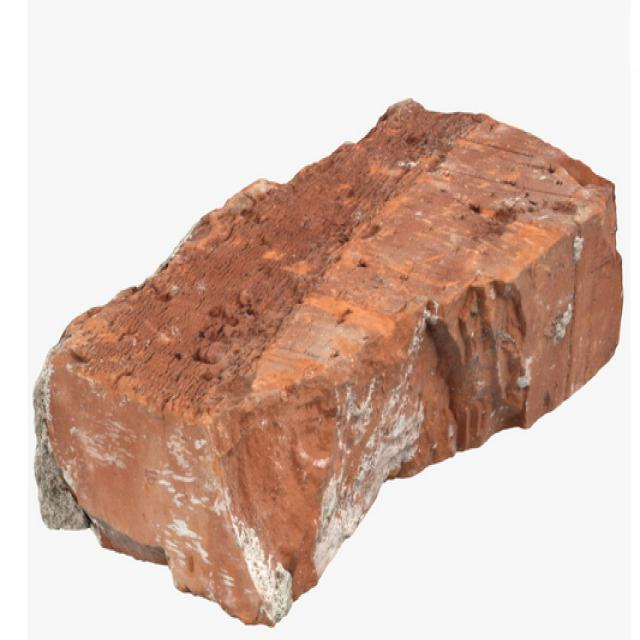bricks_ruin: (32, 95, 624, 628)
